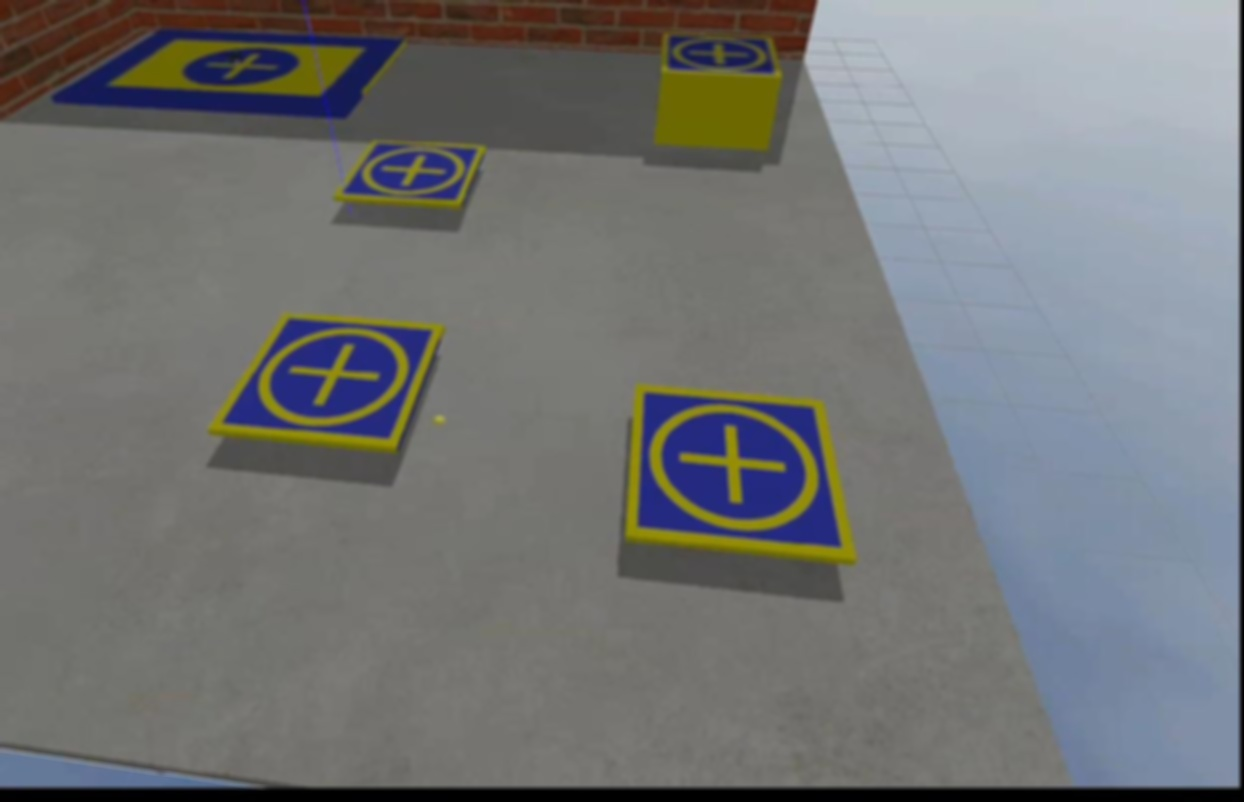large_base: (53, 27, 408, 122)
small_base: (623, 382, 862, 566), (207, 310, 445, 455), (337, 139, 489, 214), (659, 30, 781, 82)
